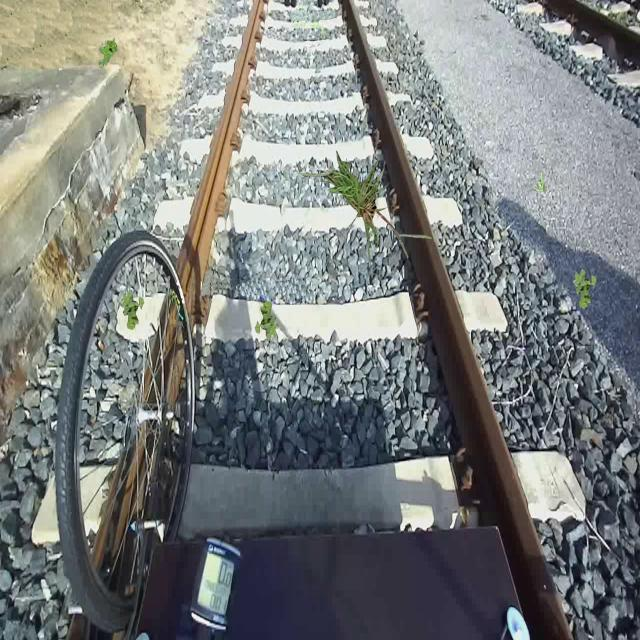Plant: (289, 150, 432, 270), (121, 290, 145, 331), (573, 269, 597, 310), (255, 300, 279, 341), (98, 37, 118, 70), (534, 171, 548, 192)
